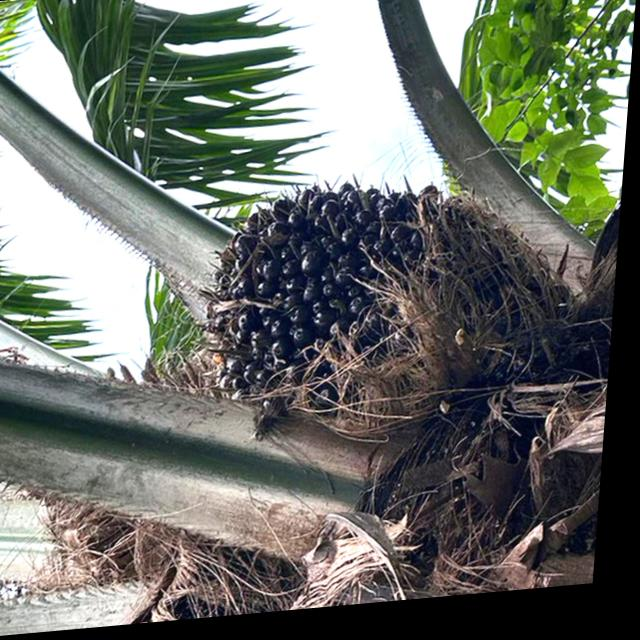almost: (180, 185, 512, 450)
